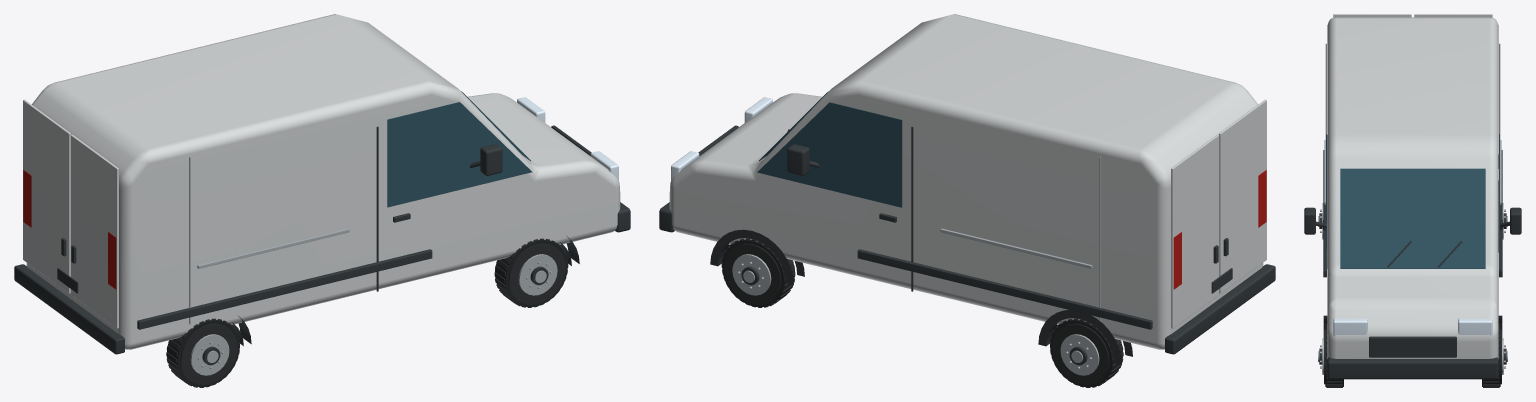
File: SM_DeliveryVan.fbx
3 renders of one model, left to right at view 1: azimuth 30°, elevation 25°; view 2: azimuth 150°, elevation 25°; view 3: azimuth 270°, elevation 25°, orthographic. The views are drawn at different scales.
Parts seen in each view (by area): view 1: SM_DeliveryVan; view 2: SM_DeliveryVan; view 3: SM_DeliveryVan.
Boxes of the visible parts, left/top/right/bottom form: SM_DeliveryVan: left=14, top=14, right=630, bottom=387; SM_DeliveryVan: left=659, top=14, right=1275, bottom=387; SM_DeliveryVan: left=1304, top=14, right=1521, bottom=387.
Bounding box in the file's own units: 599 × 258 × 273.
